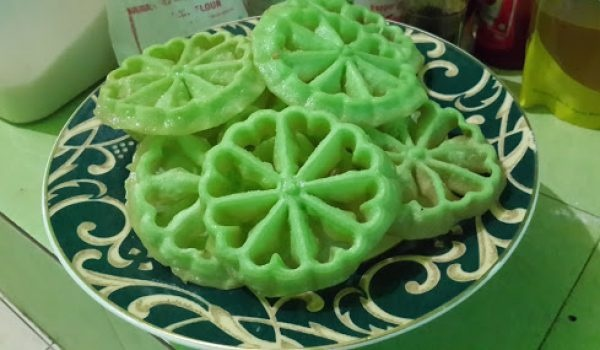kembang_goyang: (202, 107, 396, 284)
